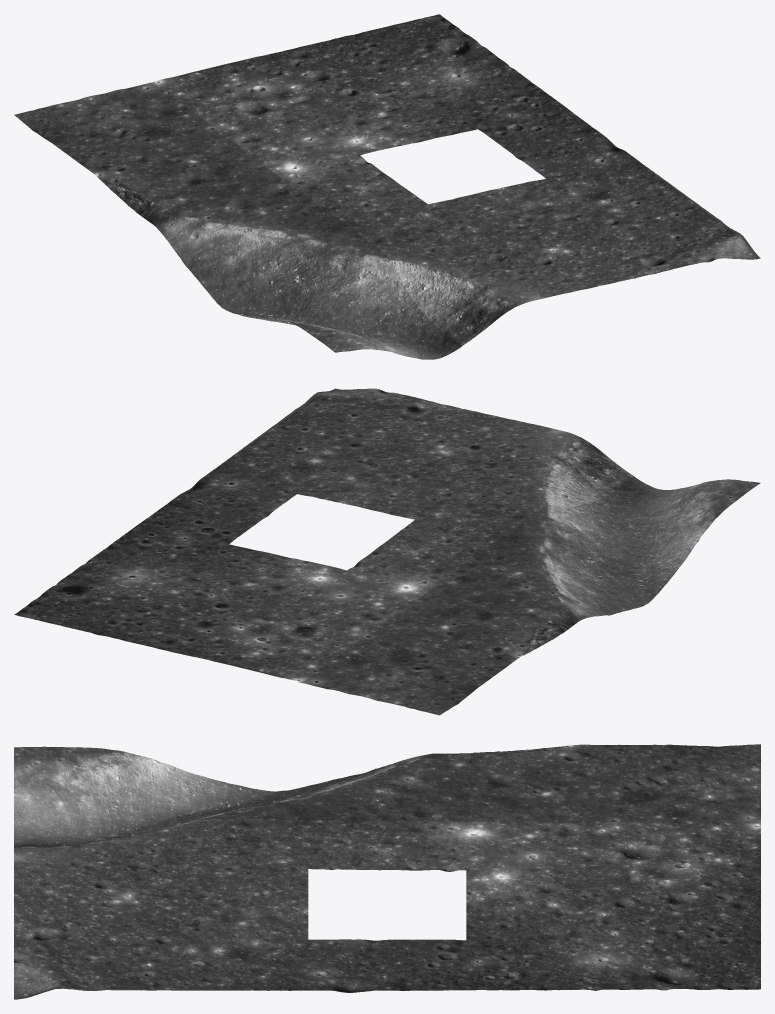
File: near-low.glb
3 renders of one model, top to bottom at view 1: azimuth 30°, elevation 25°; view 2: azimuth 150°, elevation 25°; view 3: azimuth 270°, elevation 25°, orthographic. The views are drawn at different scales.
Parts seen in each view (by area): view 1: near; view 2: near; view 3: near.
Part boxes in pixels (box(x1,y1,x2,y2)): near: box(14, 14, 760, 359); near: box(14, 388, 760, 715); near: box(14, 744, 760, 999).
Size of the model in its own units: 3624 by 353 by 4738.
1 material, 1 textured.
